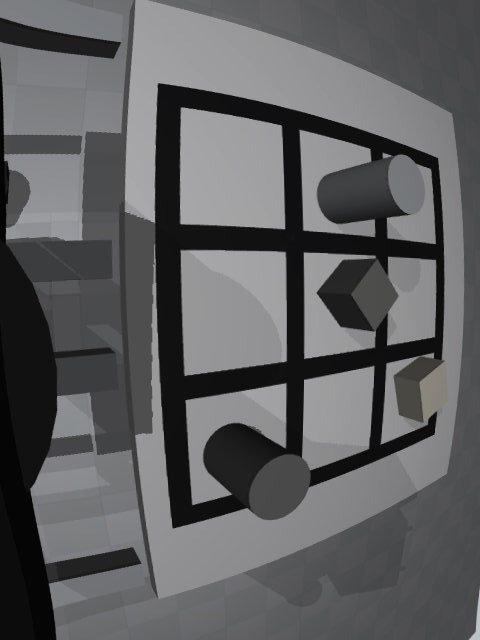can: (317, 154, 425, 224)
cube: (317, 258, 398, 332)
cylinder: (203, 423, 311, 520)
foam: (393, 356, 449, 423)
